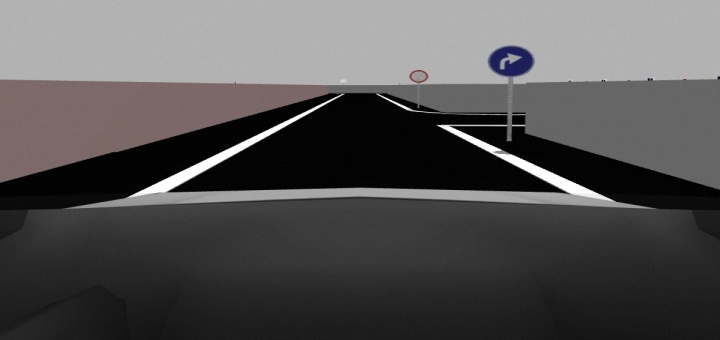saga_don: (486, 42, 539, 80)
